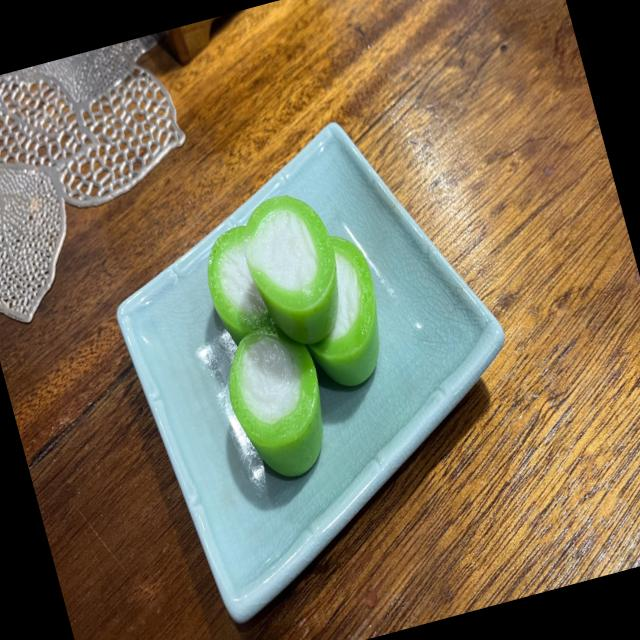nona-manis: (242, 194, 338, 345), (229, 328, 323, 477), (308, 235, 379, 386), (207, 225, 273, 345)
